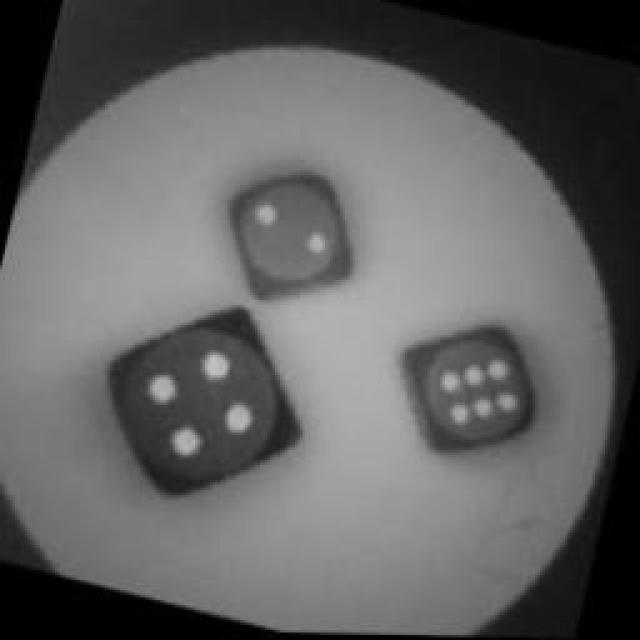dice_2: (215, 160, 363, 308)
dice_4: (79, 280, 314, 525)
dice_6: (386, 305, 554, 475)
